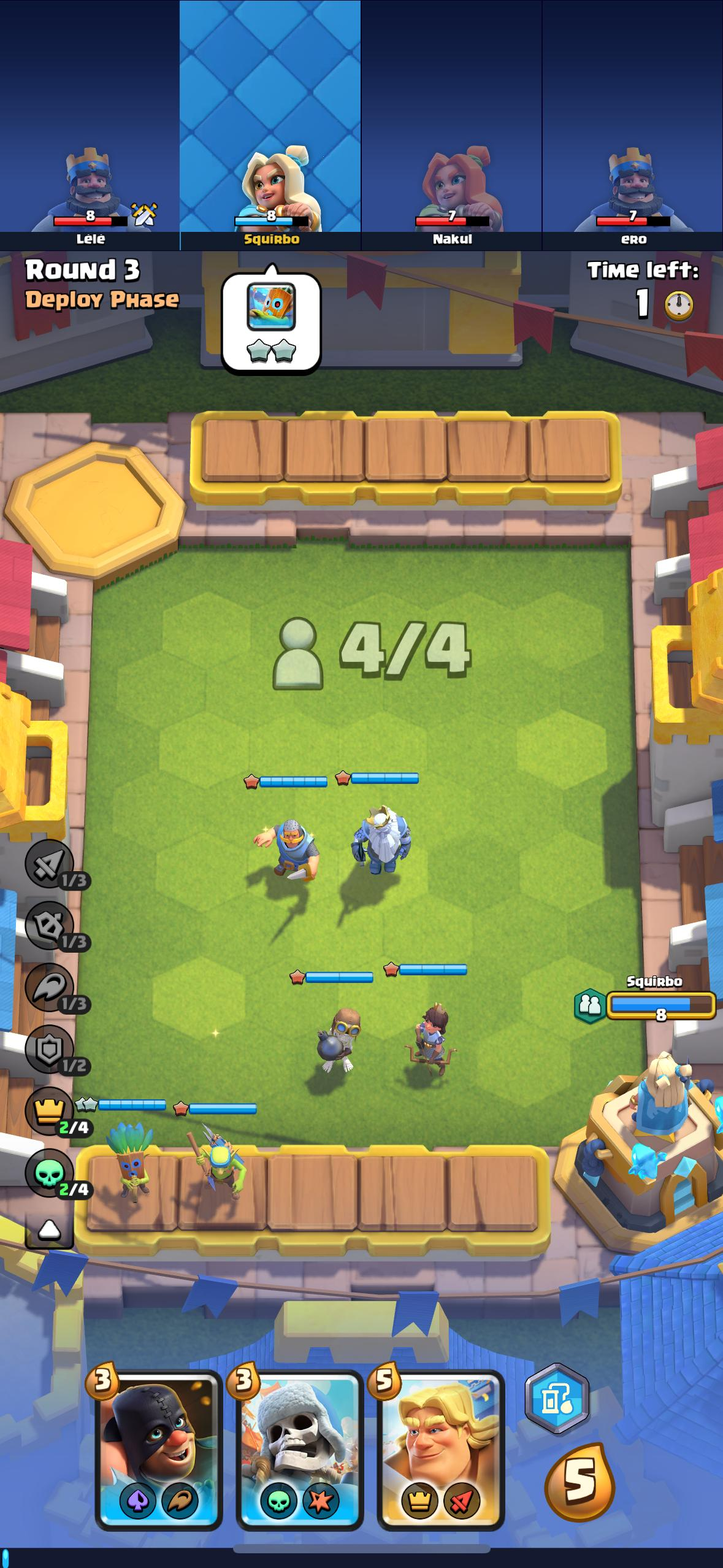bomber: (300, 998, 366, 1076)
dart: (105, 1118, 155, 1198)
ghost: (349, 794, 412, 876)
hand-executioner: (100, 1376, 222, 1528)
hand-giant: (238, 1370, 361, 1525)
hand-golden: (379, 1373, 503, 1528)
knight: (256, 807, 321, 884)
princess: (407, 991, 457, 1077)
spear: (182, 1126, 246, 1199)
